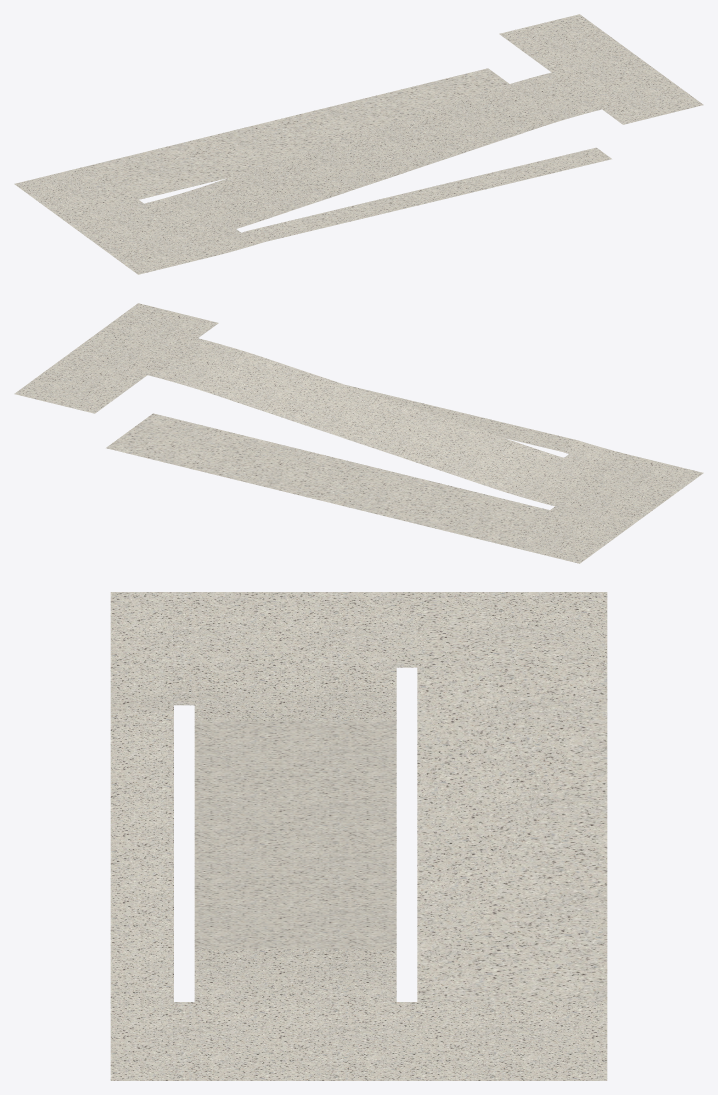
The model's file is IRGLMLindsayRampFloor.fbx.
3 views of the same model, one above another, from view 1: azimuth 30°, elevation 25°; view 2: azimuth 150°, elevation 25°; view 3: azimuth 270°, elevation 25° (orthographic). The views are drawn at different scales.
Parts seen in each view (by area): view 1: Floor; view 2: Floor; view 3: Floor.
Part boxes in pixels (left/top/right/bottom): Floor: left=14, top=14, right=703, bottom=274; Floor: left=14, top=303, right=703, bottom=563; Floor: left=110, top=592, right=607, bottom=1080.
Bounding box in the file's own units: 951 × 51 × 362.
